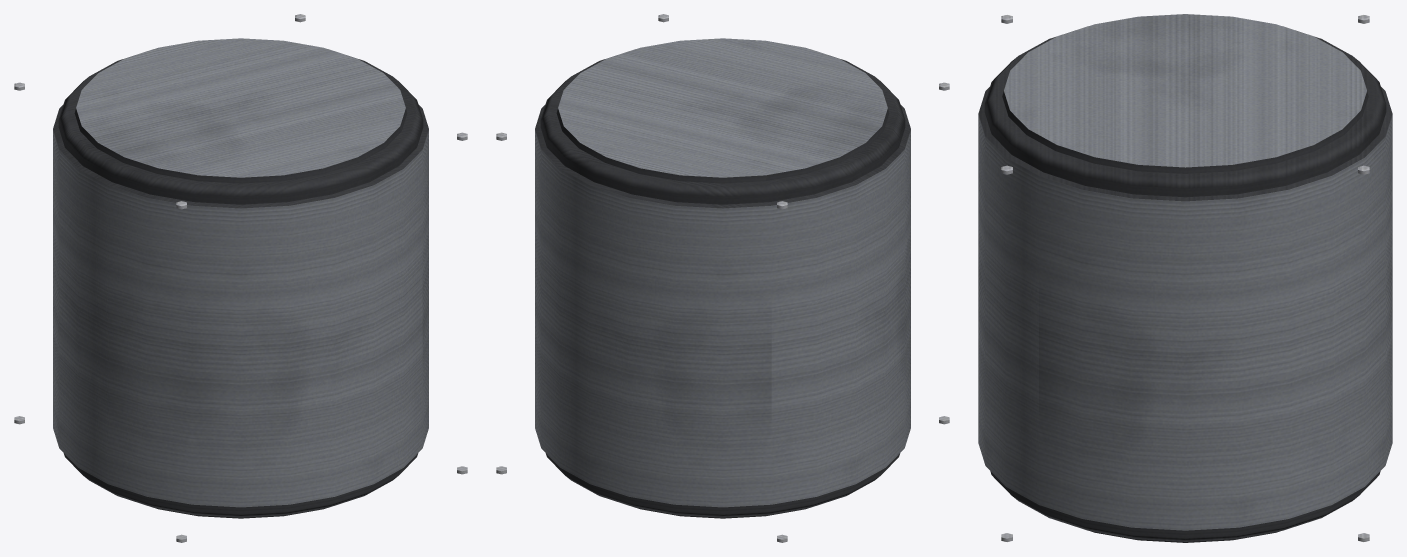
3 renders of one model, left to right at view 1: azimuth 30°, elevation 25°; view 2: azimuth 150°, elevation 25°; view 3: azimuth 270°, elevation 25°, orthographic. The views are drawn at different scales.
Visible parts, largest first — view 1: R4B_Cylinder; view 2: R4B_Cylinder; view 3: R4B_Cylinder.
Boxes of the visible parts, x1,y1,x2,y2 form: R4B_Cylinder: (14, 14, 467, 542); R4B_Cylinder: (496, 14, 949, 542); R4B_Cylinder: (978, 14, 1392, 542).
Size of the model in its own units: 0.52 by 0.52 by 0.52.
Materials: 3 (3 with a texture image).
